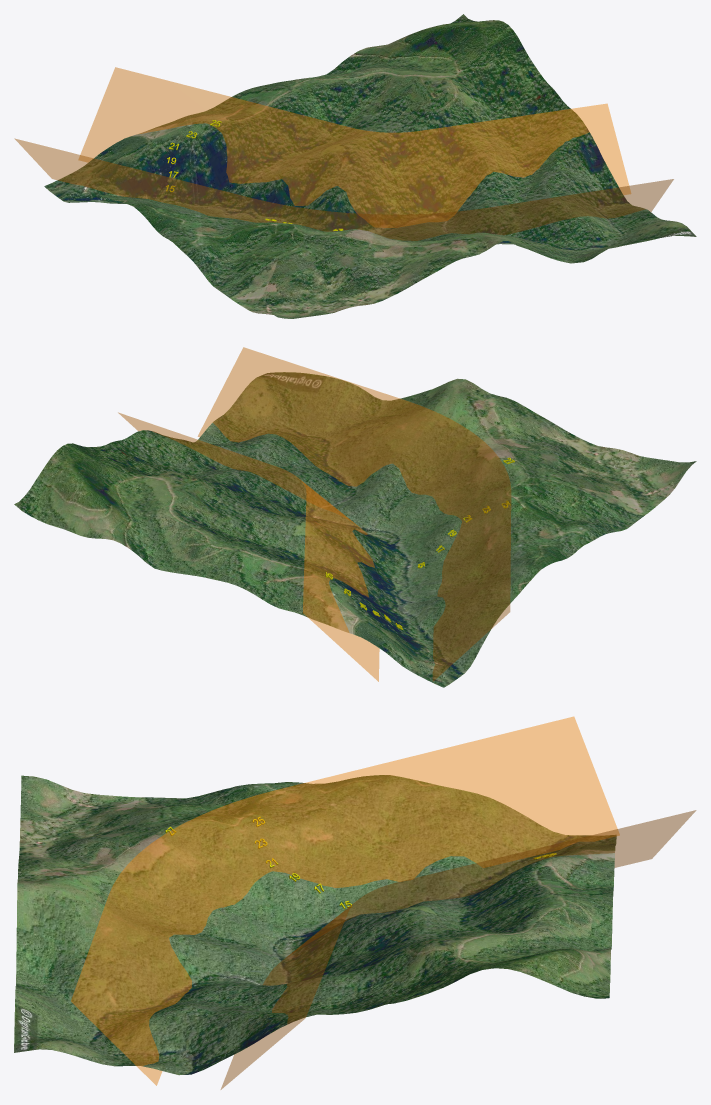
Rendered from curva16.glb.
The picture shows the model from 3 angles, top to bottom: view 1: azimuth 30°, elevation 25°; view 2: azimuth 150°, elevation 25°; view 3: azimuth 270°, elevation 25°; orthographic projection. The views are drawn at different scales.
Parts seen in each view (by area): view 1: root; view 2: root; view 3: root.
Boxes of the visible parts, <box> form: root: <box>14,14,696,318</box>; root: <box>14,347,696,687</box>; root: <box>14,716,696,1089</box>.
Size of the model in its own units: 2334 by 444 by 2278.
5 materials, 1 textured.
